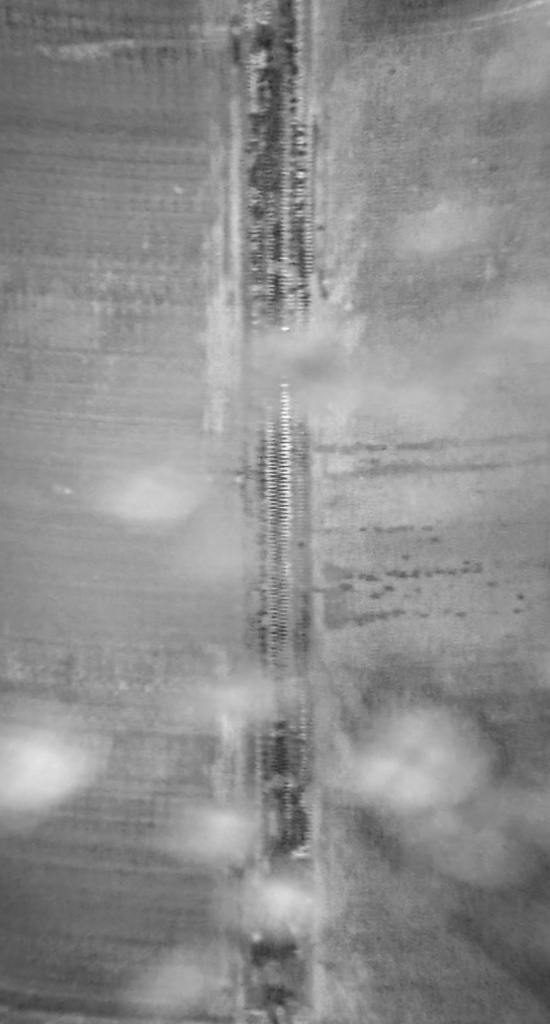splice: (218, 1, 315, 1022)
